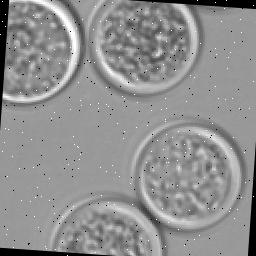picoshell: (131, 117, 244, 230), (89, 0, 201, 94), (2, 0, 80, 103), (49, 196, 163, 256)
